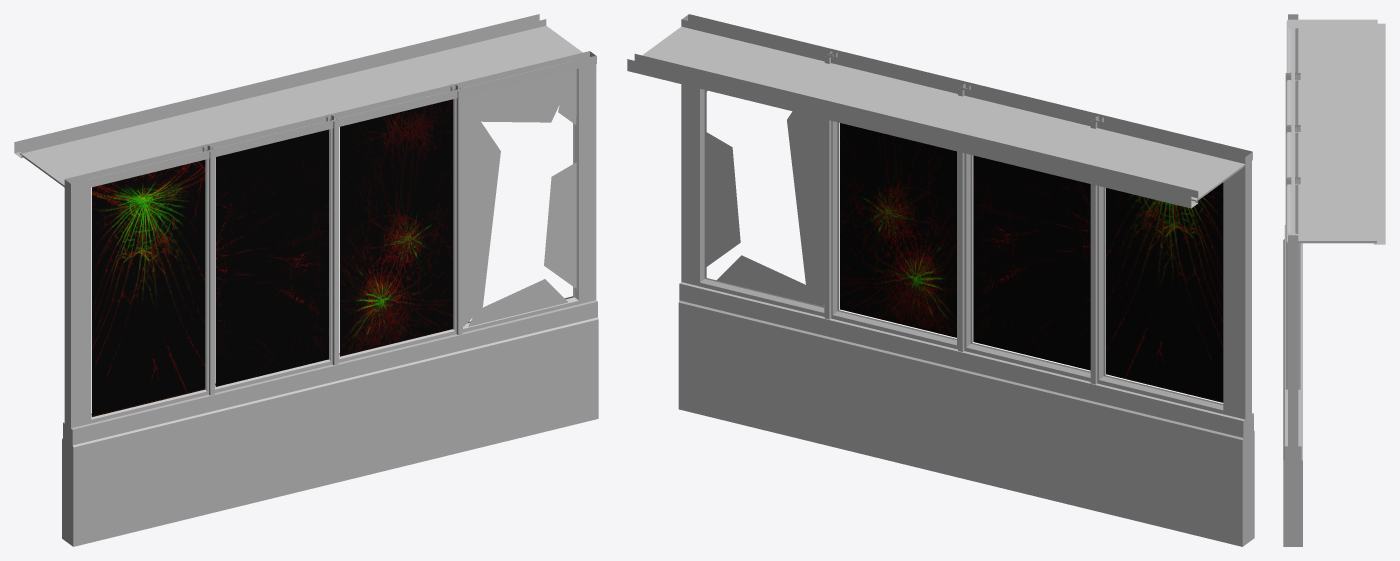
Rendered from store_front_windows_broken_4x1_b.fbx.
3 renders of one model, left to right at view 1: azimuth 30°, elevation 25°; view 2: azimuth 150°, elevation 25°; view 3: azimuth 270°, elevation 25°, orthographic. The views are drawn at different scales.
Parts seen in each view (by area): view 1: store_front_windows_broken_4x1_b_LOD0; view 2: store_front_windows_broken_4x1_b_LOD0; view 3: store_front_windows_broken_4x1_b_LOD0.
Part boxes in pixels (left/top/right/bottom): store_front_windows_broken_4x1_b_LOD0: left=14, top=14, right=598, bottom=546; store_front_windows_broken_4x1_b_LOD0: left=627, top=14, right=1254, bottom=546; store_front_windows_broken_4x1_b_LOD0: left=1283, top=14, right=1385, bottom=546.
Bounding box in the file's own units: 600 × 117 × 395.
